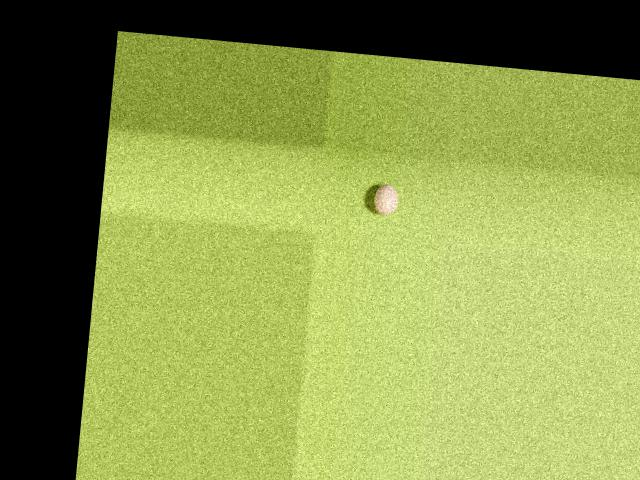egg: (372, 182, 398, 215)
